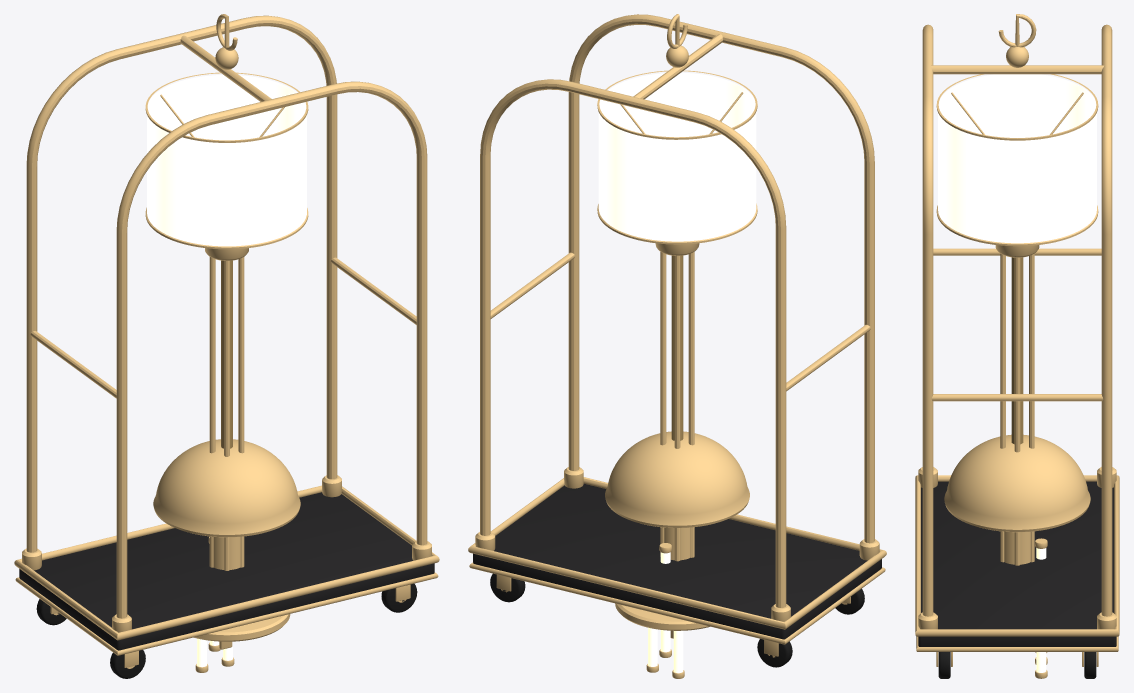
File: props_lighting.glb
3 renders of one model, left to right at view 1: azimuth 30°, elevation 25°; view 2: azimuth 150°, elevation 25°; view 3: azimuth 270°, elevation 25°, orthographic.
Visible parts, largest first — view 1: luggageCart, floorLamp, tableLamp, sconce; view 2: luggageCart, floorLamp, tableLamp, sconce; view 3: luggageCart, floorLamp, tableLamp, sconce.
Boxes of the visible parts, x1,y1,x2,y2 form: luggageCart: [14, 14, 439, 678]; floorLamp: [145, 72, 308, 641]; tableLamp: [153, 439, 300, 569]; sconce: [195, 536, 234, 672]; luggageCart: [468, 14, 886, 667]; floorLamp: [597, 70, 757, 630]; tableLamp: [605, 431, 749, 560]; sconce: [646, 543, 684, 678]; luggageCart: [915, 14, 1119, 678]; floorLamp: [936, 74, 1098, 565]; tableLamp: [944, 434, 1090, 564]; sconce: [1035, 538, 1047, 678].
Size of the model in its own units: 1.12 by 2.19 by 0.617.
